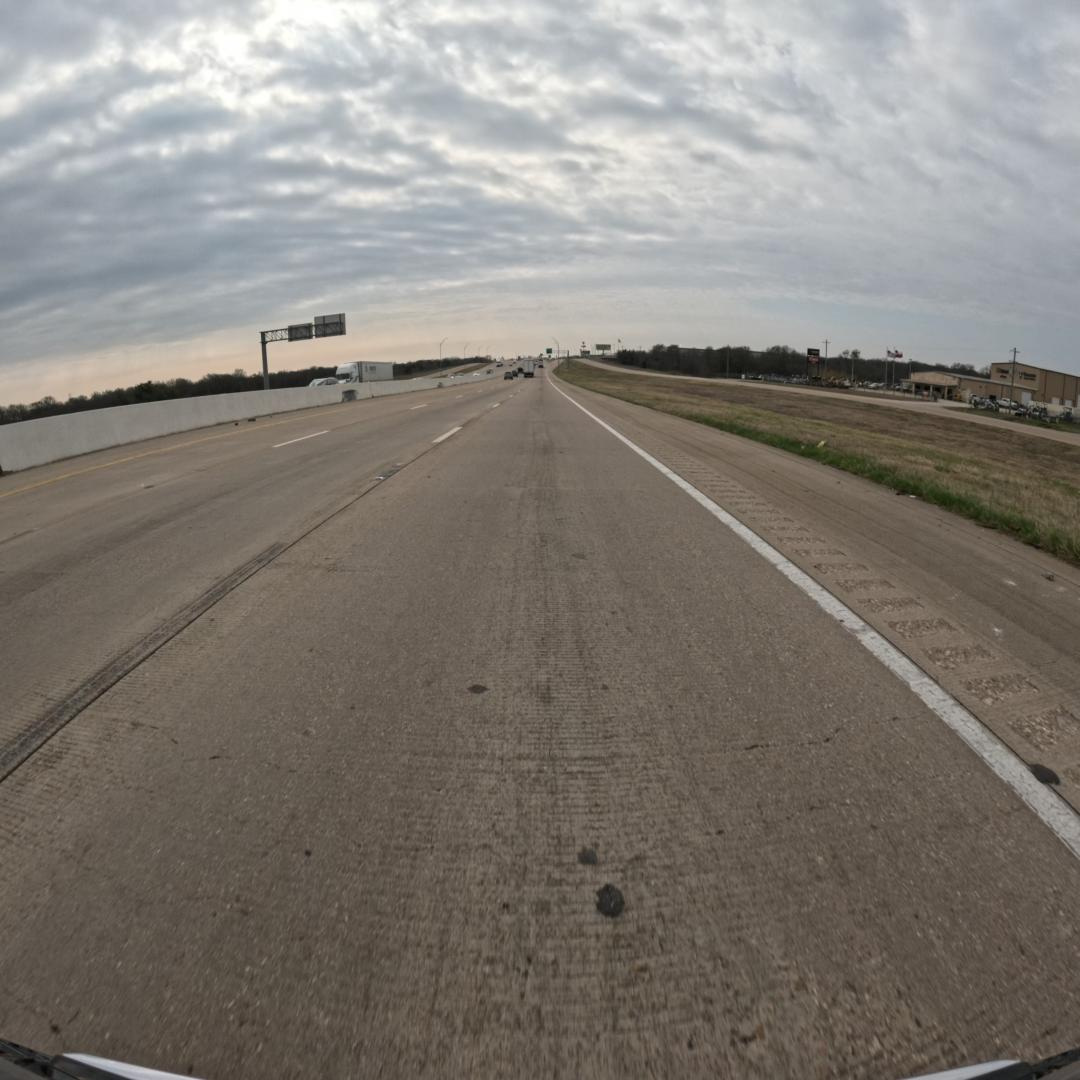lane0: (0, 377, 1080, 1077)
lane1: (0, 382, 529, 778)
